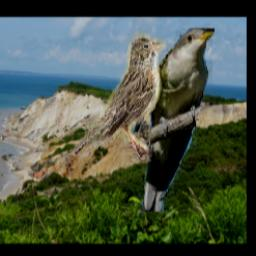Cuckoo: (132, 29, 215, 213)
Sparrow: (66, 31, 167, 164)
